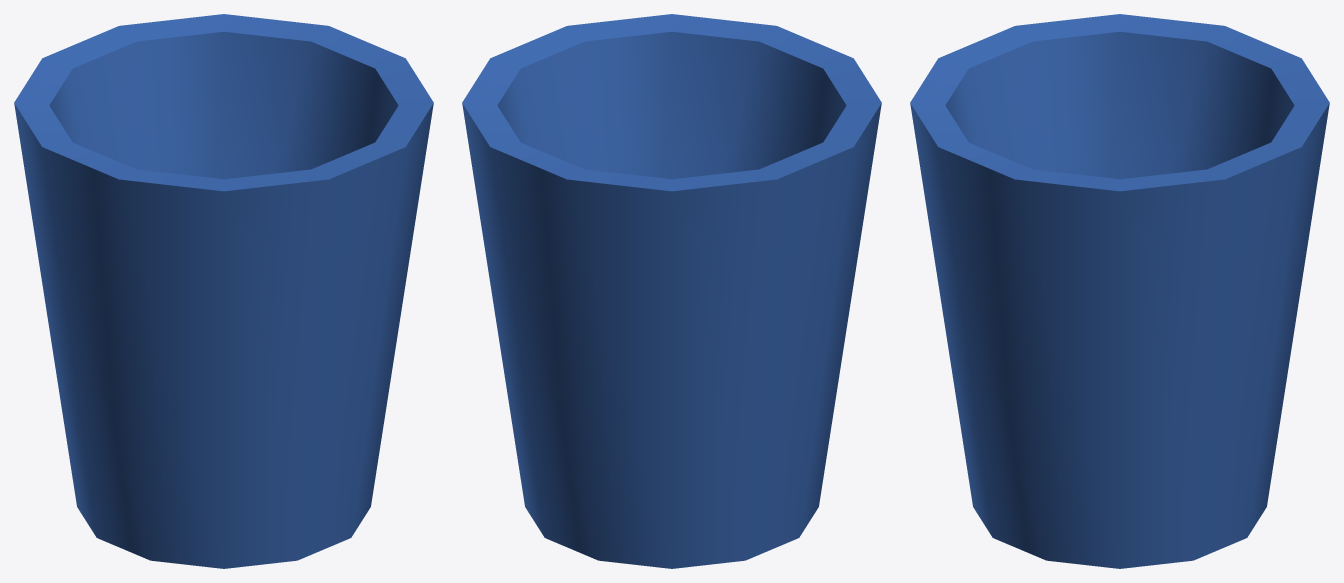
File: Bin.fbx
The picture shows the model from 3 angles, left to right: view 1: azimuth 30°, elevation 25°; view 2: azimuth 150°, elevation 25°; view 3: azimuth 270°, elevation 25°; orthographic projection.
Parts seen in each view (by area): view 1: Bin; view 2: Bin; view 3: Bin.
Boxes of the visible parts, box(x1,y1,x2,y2) form: Bin: box(14, 14, 433, 568); Bin: box(462, 14, 881, 568); Bin: box(910, 14, 1329, 568).
Bounding box in the file's own units: 44.02 × 44.02 × 46.78.
